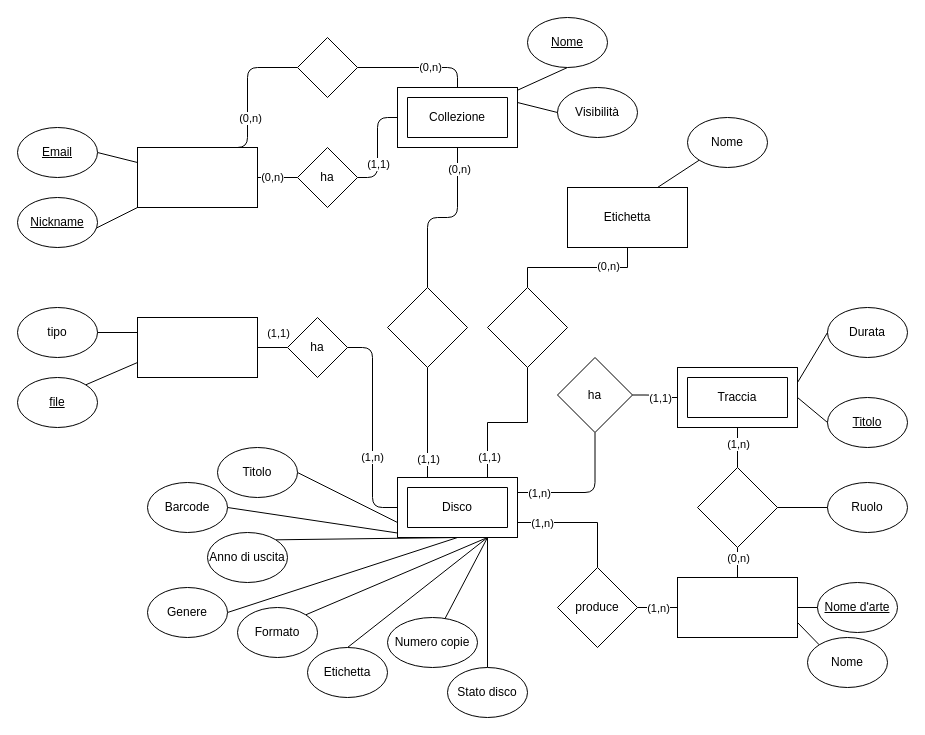
Some shapes in this 925 by 735 pixel diagram are drawn without their labels. The box of each missing label's shape, as (x1, y1, x2, y2) in pixels:
Artista: (676, 576, 798, 638)
Collezionista: (136, 146, 258, 208)
contiene: (386, 286, 468, 368)
contribuisce: (696, 466, 778, 548)
distribuisce: (486, 286, 568, 368)
fa parte: (296, 36, 358, 98)
Immagine: (136, 316, 258, 378)
